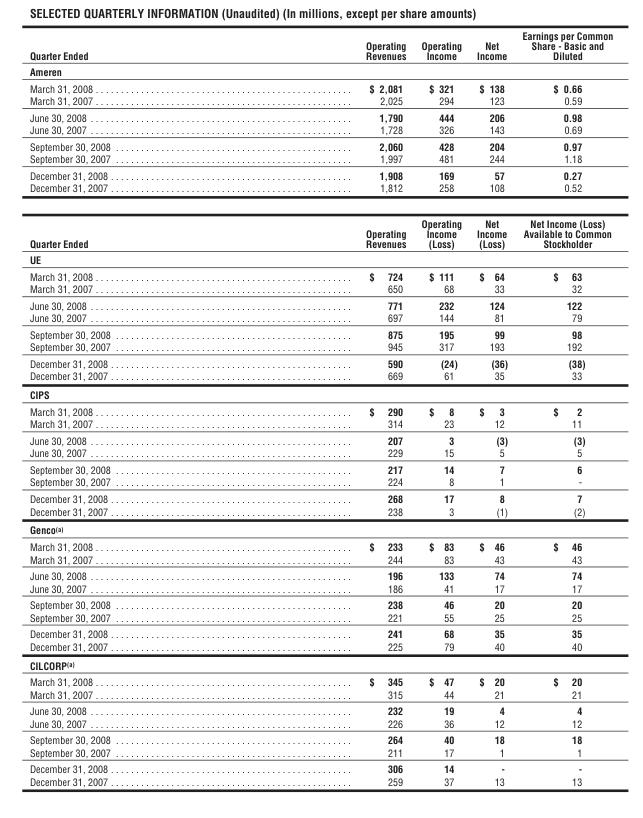table: (28, 28, 612, 787)
table column: (28, 28, 237, 787), (237, 28, 413, 787), (514, 28, 612, 787), (413, 28, 468, 787), (468, 28, 514, 787)
table column header: (28, 28, 612, 63)
table projected row header: (28, 655, 612, 673), (28, 385, 612, 402), (28, 520, 612, 537), (28, 63, 612, 79), (28, 251, 612, 267)
table row: (28, 205, 612, 251), (28, 28, 612, 63), (28, 181, 612, 205), (28, 655, 612, 673), (28, 385, 612, 402), (28, 520, 612, 537), (28, 63, 612, 79), (28, 251, 612, 267), (28, 369, 612, 385), (28, 504, 612, 520), (28, 639, 612, 655), (28, 79, 612, 94), (28, 108, 612, 123), (28, 137, 612, 152), (28, 166, 612, 181), (28, 267, 612, 282), (28, 296, 612, 311), (28, 325, 612, 340), (28, 354, 612, 369), (28, 402, 612, 417), (28, 431, 612, 446), (28, 460, 612, 475), (28, 489, 612, 504), (28, 537, 612, 552), (28, 566, 612, 581), (28, 581, 612, 596), (28, 610, 612, 625), (28, 687, 612, 702), (28, 716, 612, 731), (28, 745, 612, 760), (28, 94, 612, 108), (28, 123, 612, 137), (28, 152, 612, 166), (28, 282, 612, 296), (28, 311, 612, 325), (28, 340, 612, 354), (28, 417, 612, 431), (28, 446, 612, 460), (28, 475, 612, 489), (28, 552, 612, 566), (28, 596, 612, 610), (28, 625, 612, 639), (28, 673, 612, 687), (28, 702, 612, 716), (28, 731, 612, 745), (28, 760, 612, 774), (28, 774, 612, 787)
